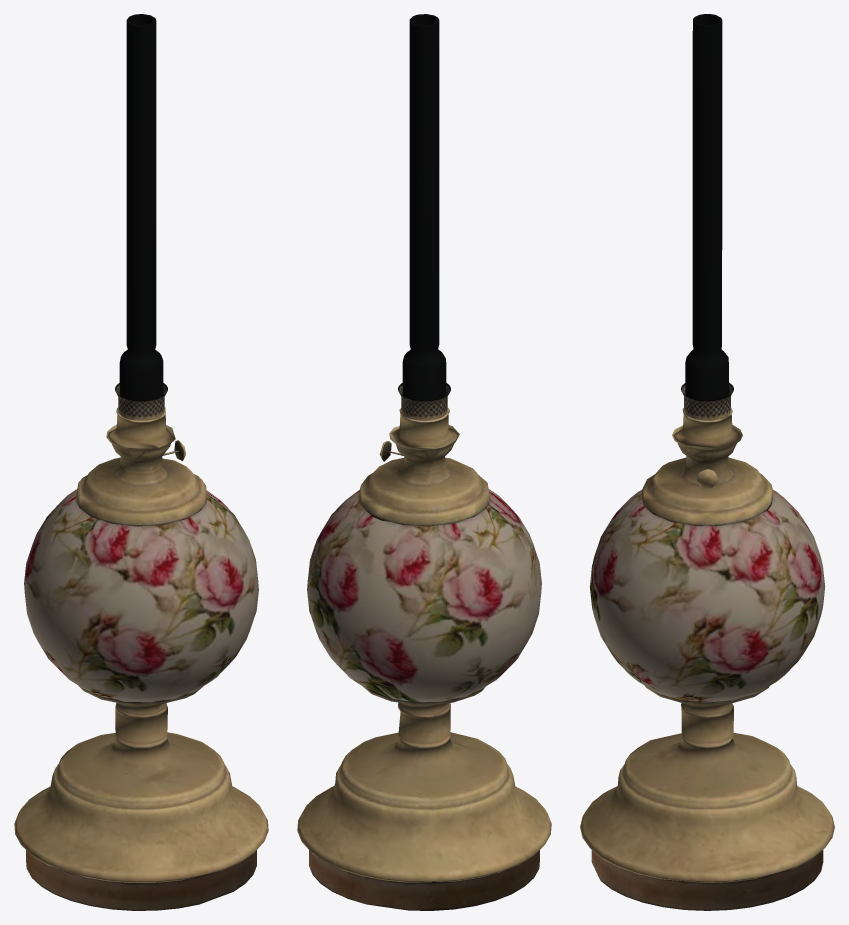
The model's file is vintage_oil_lamp.glb.
The picture shows the model from 3 angles, left to right: view 1: azimuth 30°, elevation 25°; view 2: azimuth 150°, elevation 25°; view 3: azimuth 270°, elevation 25°; orthographic projection.
Visible parts, largest first — view 1: vintage_oil_lamp, vintage_oil_lamp_glass; view 2: vintage_oil_lamp, vintage_oil_lamp_glass; view 3: vintage_oil_lamp, vintage_oil_lamp_glass.
Boxes of the visible parts, <box> form: vintage_oil_lamp: <box>14,407,268,910</box>; vintage_oil_lamp_glass: <box>115,14,167,420</box>; vintage_oil_lamp: <box>297,408,551,910</box>; vintage_oil_lamp_glass: <box>398,14,450,420</box>; vintage_oil_lamp: <box>580,407,834,910</box>; vintage_oil_lamp_glass: <box>681,14,733,420</box>.
Bounding box in the file's own units: 0.22 × 0.8016 × 0.22.
3 materials, 3 textured.
